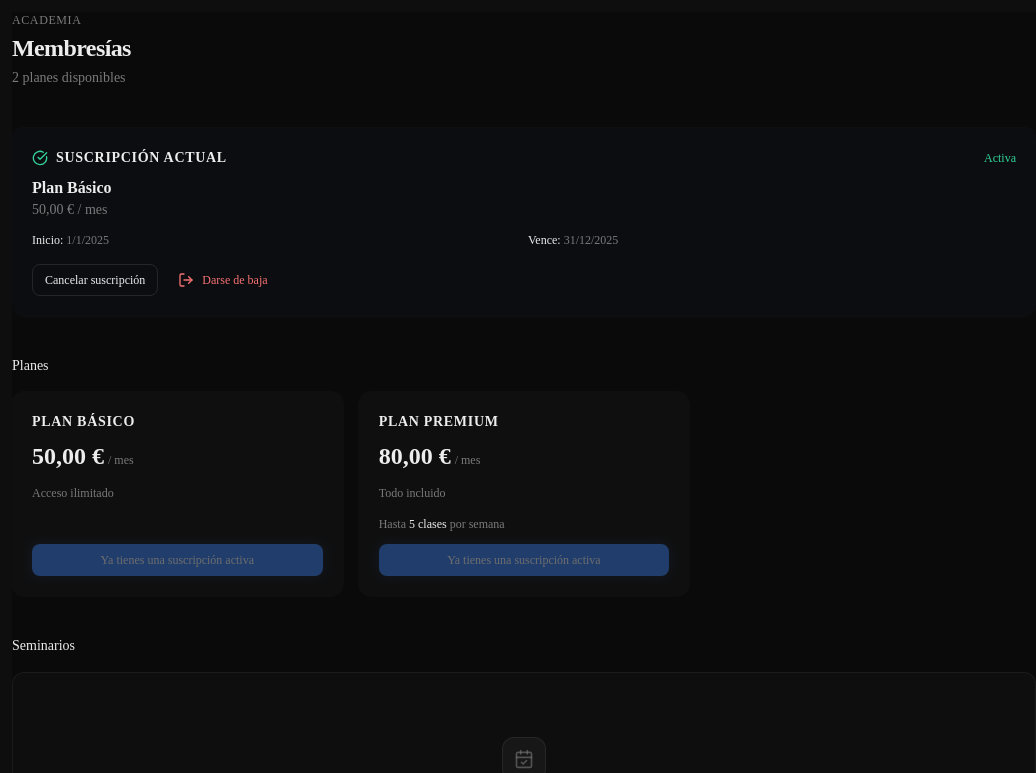
Test: MembershipPage › shows confirmation prompt when clicking cancel
The width and height of the screenshot is (1036, 773).
Click the button "Cancelar suscripción": (95, 280) x1=32 y1=264 x2=158 y2=296
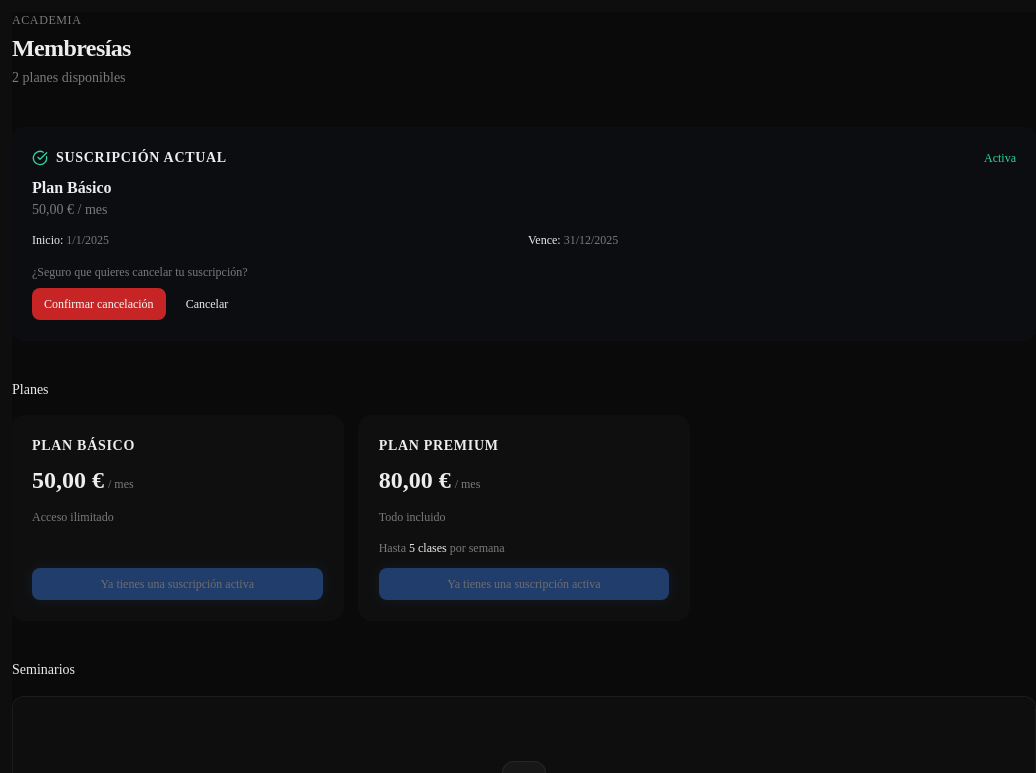
Now the button "Confirmar cancelación" is shown, box x1=32 y1=288 x2=166 y2=320
